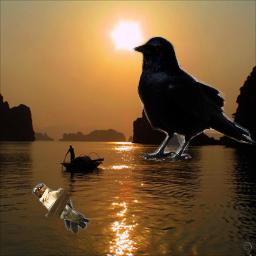Crow: (130, 35, 256, 162)
Swallow: (32, 183, 90, 234)
